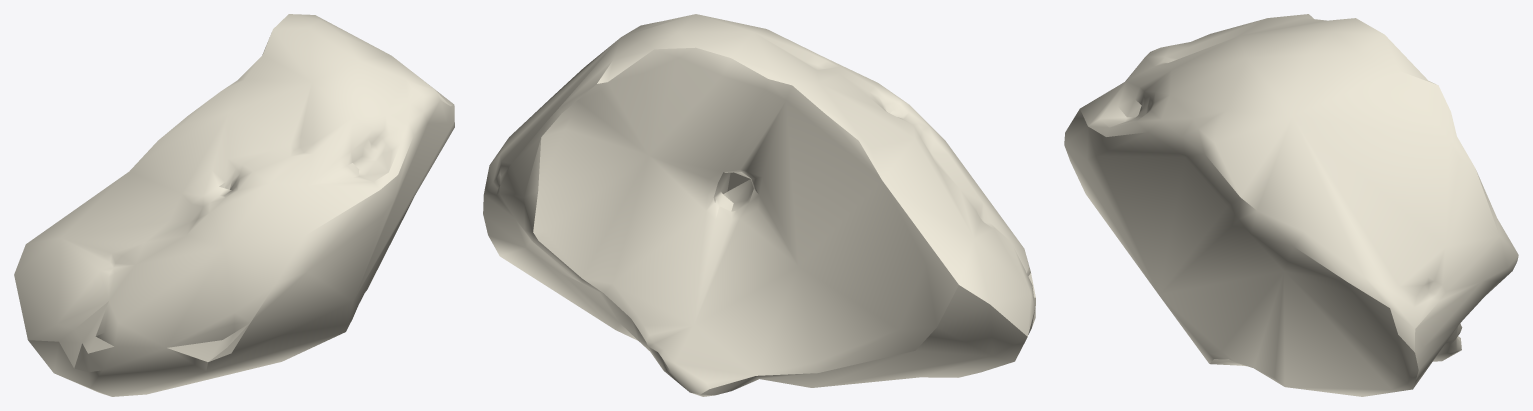
Rendered from fma24501_fj6409.glb.
3 renders of one model, left to right at view 1: azimuth 30°, elevation 25°; view 2: azimuth 150°, elevation 25°; view 3: azimuth 270°, elevation 25°, orthographic. The views are drawn at different scales.
Visible parts, largest first — view 1: FMA24501_FJ6409; view 2: FMA24501_FJ6409; view 3: FMA24501_FJ6409.
Part boxes in pixels (box(x1,y1,x2,y2)): FMA24501_FJ6409: box(14, 14, 454, 396); FMA24501_FJ6409: box(483, 14, 1035, 396); FMA24501_FJ6409: box(1064, 14, 1518, 396).
Size of the model in its own units: 0.0388 by 0.0249 by 0.0266.
